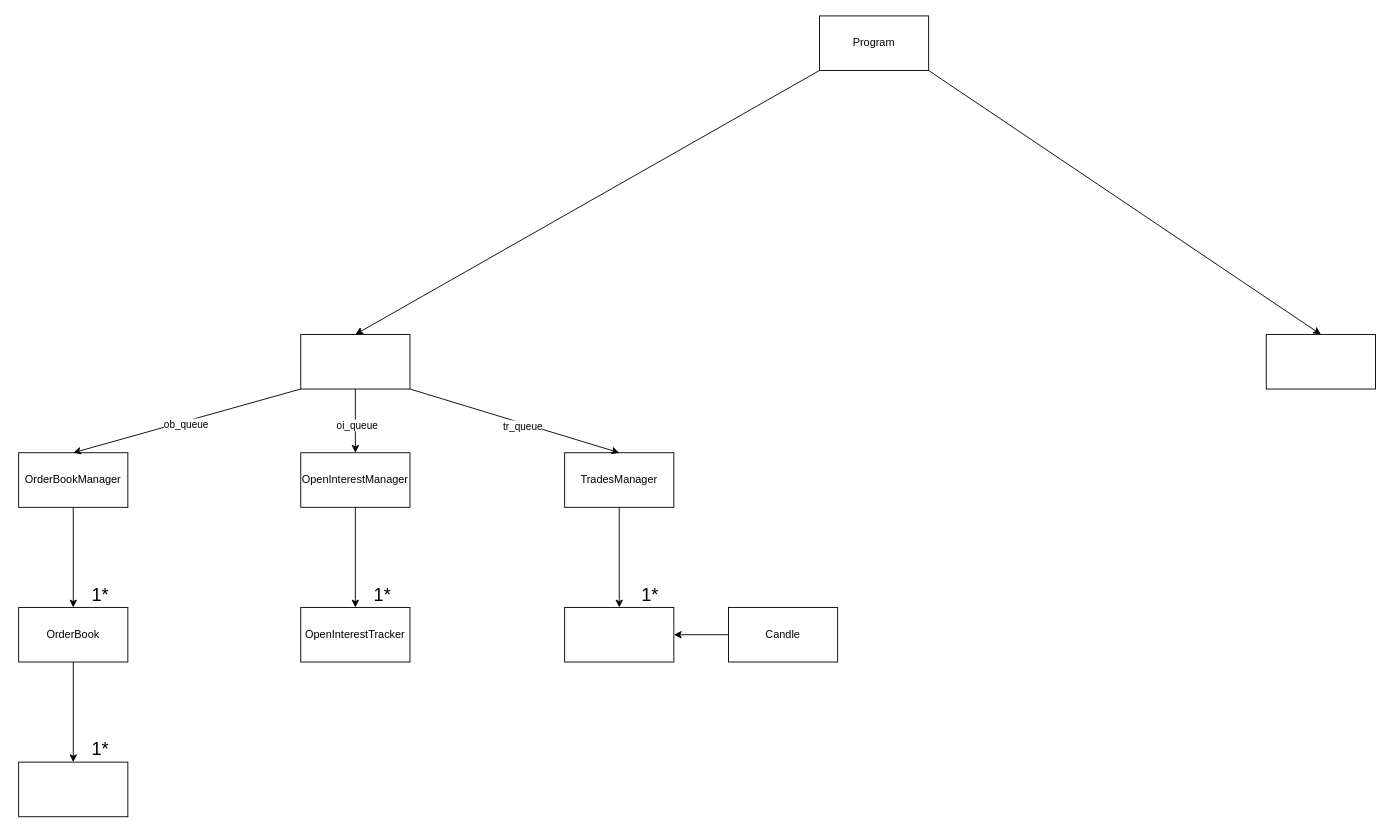
This 1391x833 diagram has some shape labels left out. The box of each missing label's shape, as (x1, y1, x2, y2) in pixels:
CompressedOrderBook: (18, 761, 128, 817)
LiveDashboard: (1265, 334, 1375, 389)
MarketFeed: (300, 334, 410, 389)
TickFrame: (564, 607, 674, 662)
